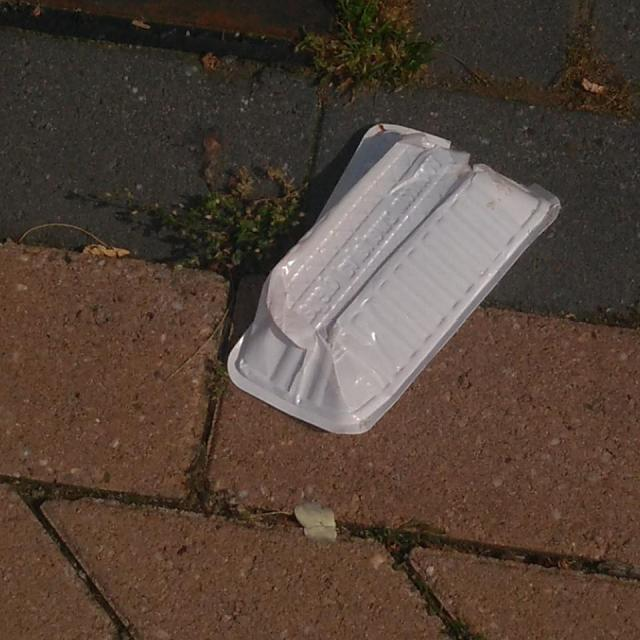Plastic: (225, 120, 562, 438)
